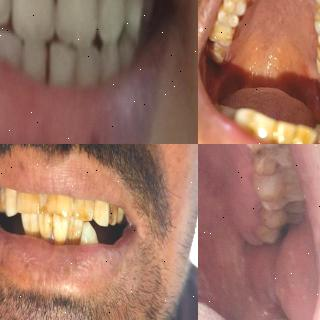cavities: (275, 200, 296, 230)
maligned: (21, 36, 48, 90), (50, 38, 74, 86), (0, 26, 21, 76)
stains: (250, 147, 290, 177), (18, 184, 48, 217), (45, 190, 71, 217), (48, 214, 68, 246), (107, 194, 124, 231), (254, 201, 280, 225), (253, 225, 274, 251), (67, 215, 83, 249), (256, 115, 274, 144), (210, 39, 228, 67), (241, 108, 257, 136), (37, 209, 51, 241), (240, 144, 276, 154), (277, 122, 293, 144), (297, 126, 313, 144), (309, 12, 320, 28), (314, 0, 320, 18), (314, 40, 320, 54)
